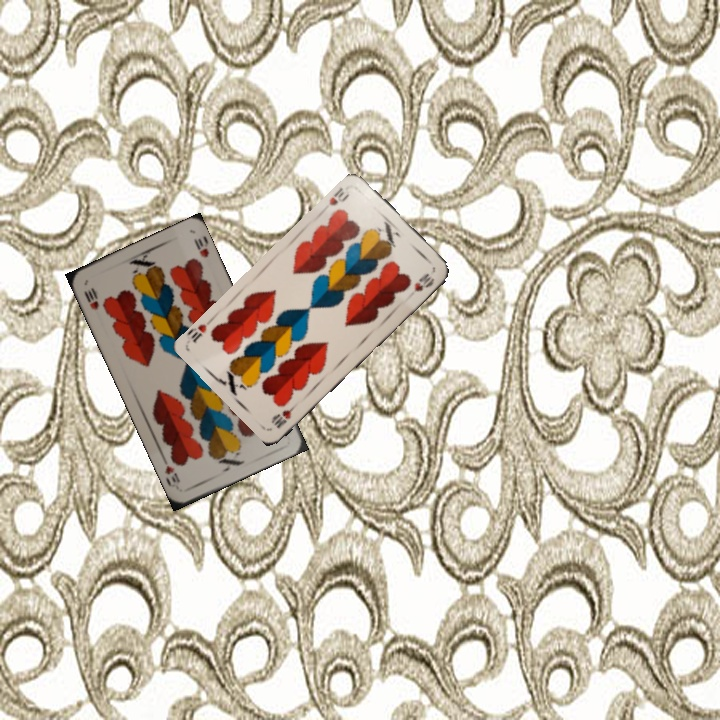H10: (268, 399, 301, 431), (325, 184, 352, 208), (80, 284, 101, 313)
